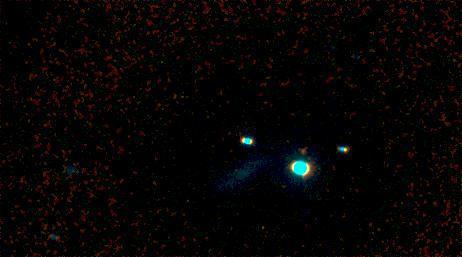star: (288, 139, 318, 169)
